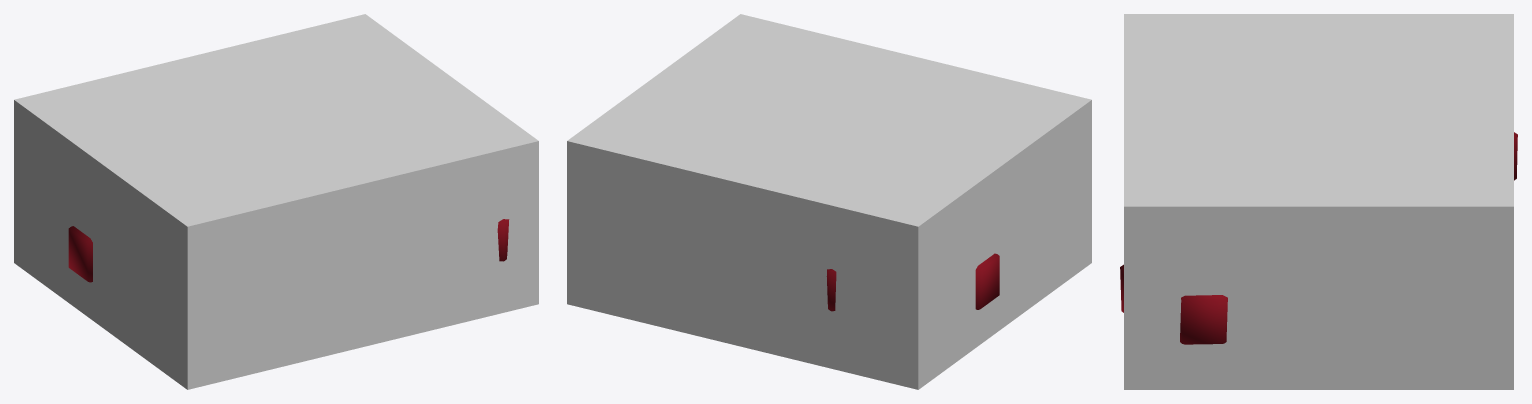
File: FMS_Crate_Basket_Fill_Berries.fbx
The picture shows the model from 3 angles, left to right: view 1: azimuth 30°, elevation 25°; view 2: azimuth 150°, elevation 25°; view 3: azimuth 270°, elevation 25°; orthographic projection. The views are drawn at different scales.
Visible parts, largest first — view 1: Basket_Fill_Berries_Col, Basket_Fill_Berries_LOD0; view 2: Basket_Fill_Berries_Col, Basket_Fill_Berries_LOD0; view 3: Basket_Fill_Berries_Col, Basket_Fill_Berries_LOD0.
Part boxes in pixels (x1,y1,x2,y2): Basket_Fill_Berries_Col: (14,14,538,389); Basket_Fill_Berries_LOD0: (68,219,509,282); Basket_Fill_Berries_Col: (567,14,1091,389); Basket_Fill_Berries_LOD0: (826,253,999,311); Basket_Fill_Berries_Col: (1124,14,1513,389); Basket_Fill_Berries_LOD0: (1120,132,1517,344).
Size of what is drawn, in the model's own units: 19.05 by 8.29 by 16.3.
